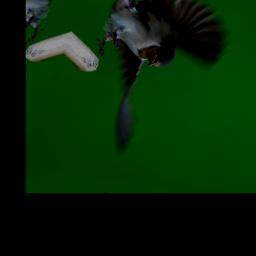Swallow: (60, 0, 249, 165)
